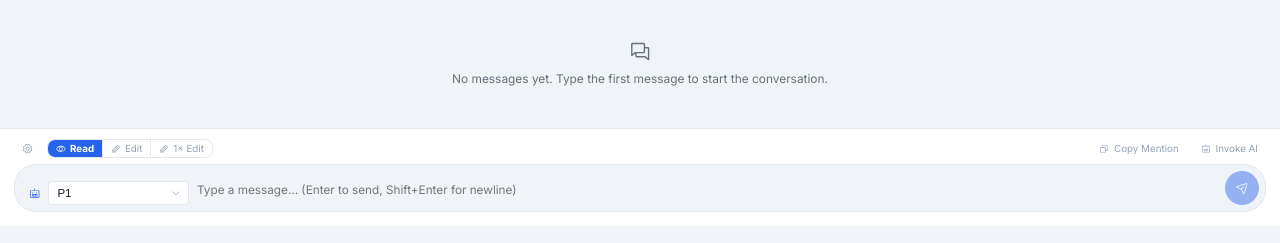
Test: ConversationView draft persistence › removes the stored draft after a successful send
Type "send me" into the text box with placeholder "Type a message… (Enter to send, Shift+Enter for newline)" at (707, 191), box [197,177,1217,205]
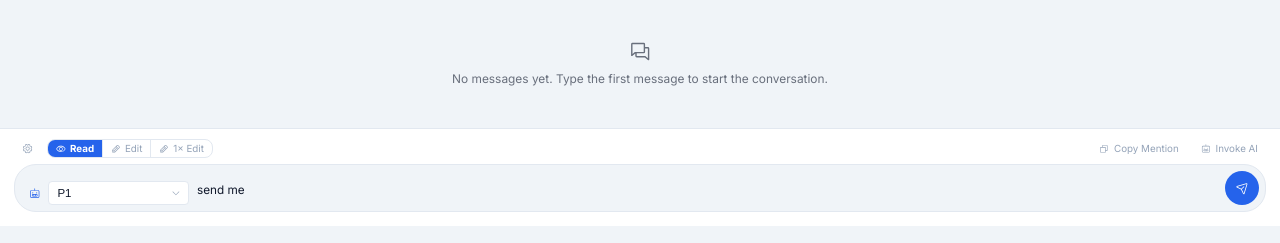
Submit the form, box [0,128,1279,226]
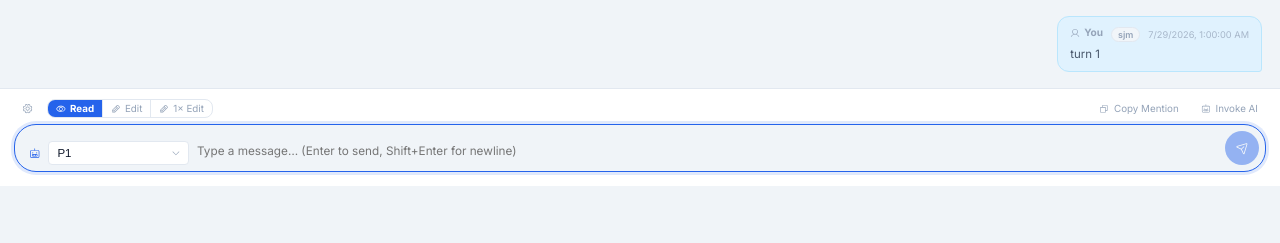
Expected: the text box with placeholder "Type a message… (Enter to send, Shift+Enter for newline)" is empty, [197,138,1217,165]
